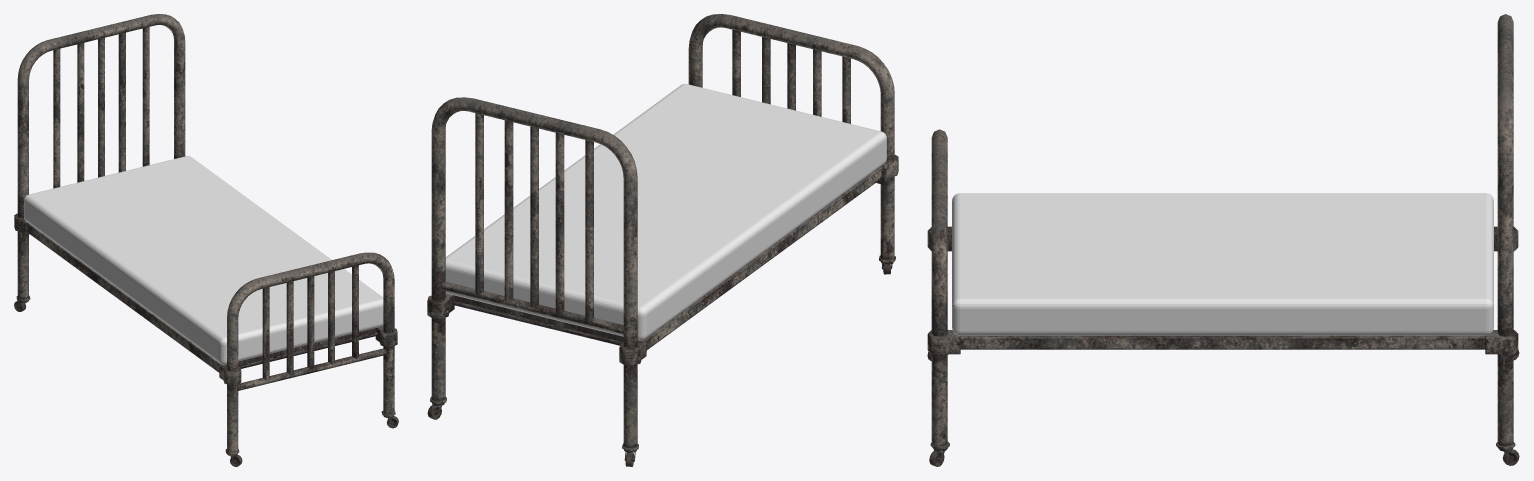
Rendered from hospital-bed.fbx.
3 renders of one model, left to right at view 1: azimuth 30°, elevation 25°; view 2: azimuth 150°, elevation 25°; view 3: azimuth 270°, elevation 25°, orthographic. The views are drawn at different scales.
Visible parts, largest first — view 1: Plane, bed_lp; view 2: Plane, bed_lp; view 3: Plane, bed_lp.
Boxes of the visible parts, x1,y1,x2,y2 form: Plane: (24,156,383,364); bed_lp: (14,14,398,466); Plane: (445,83,886,340); bed_lp: (427,14,898,466); Plane: (952,193,1493,335); bed_lp: (927,14,1519,466).
Bounding box in the file's own units: 106 × 157 × 234.
